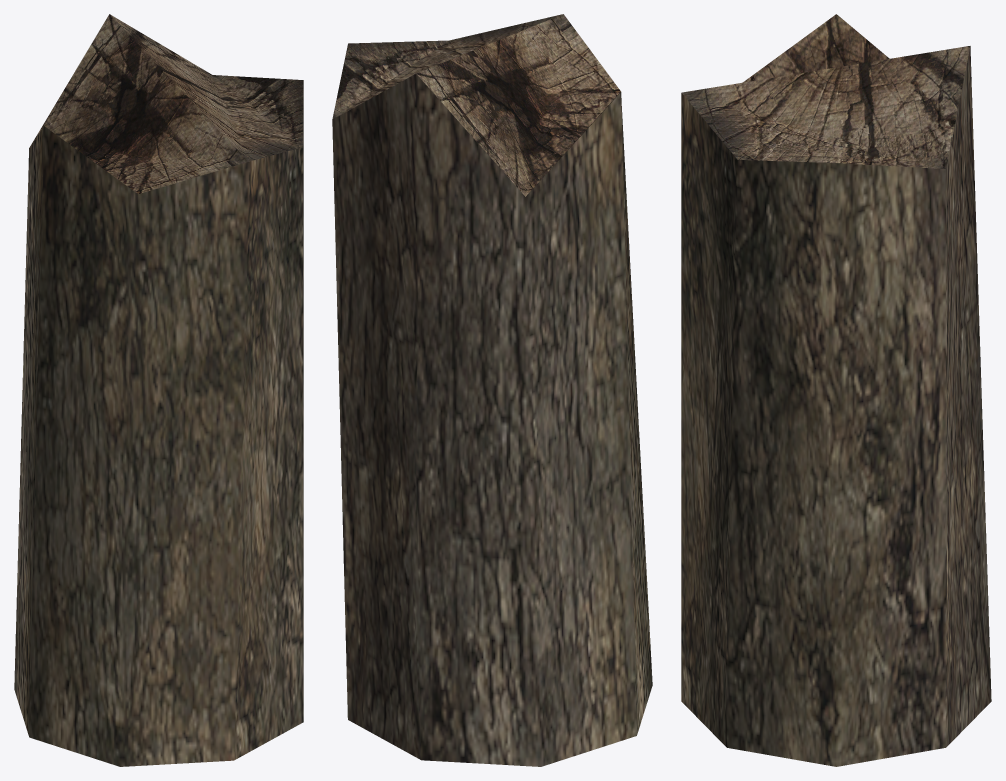
File: woodenPost05.FBX
The picture shows the model from 3 angles, left to right: view 1: azimuth 30°, elevation 25°; view 2: azimuth 150°, elevation 25°; view 3: azimuth 270°, elevation 25°; orthographic projection. The views are drawn at different scales.
Visible parts, largest first — view 1: wooden_fence_pole_broken1; view 2: wooden_fence_pole_broken1; view 3: wooden_fence_pole_broken1.
Boxes of the visible parts, x1,y1,x2,y2 form: wooden_fence_pole_broken1: (14,14,303,766); wooden_fence_pole_broken1: (332,14,652,766); wooden_fence_pole_broken1: (681,14,991,766).
Size of the model in its own units: 30.23 by 67.51 by 28.6.
